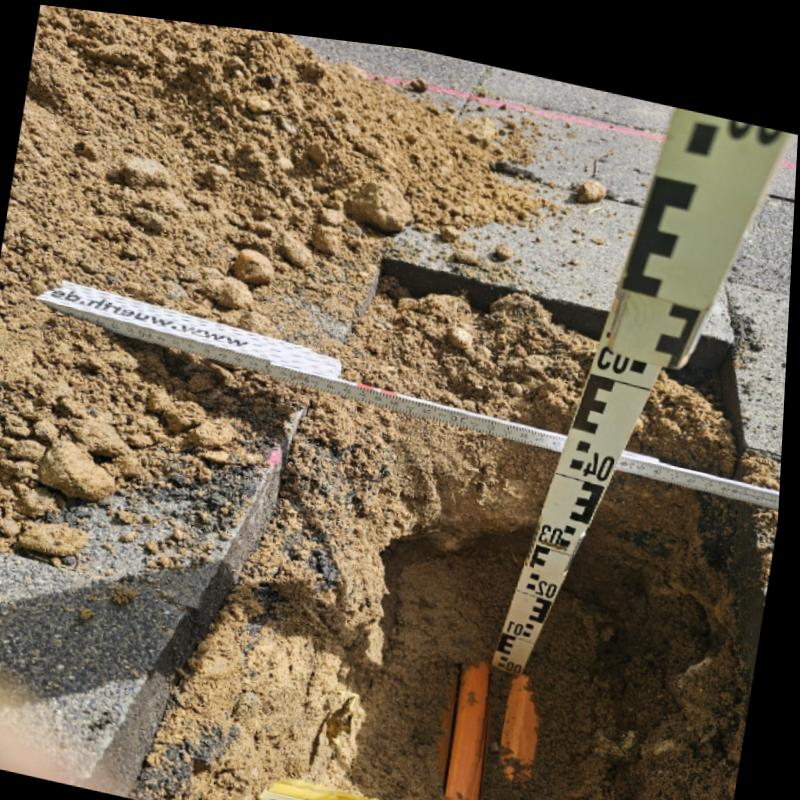Orang-Speednetrohrchen: (453, 648, 496, 789), (508, 663, 544, 760)
